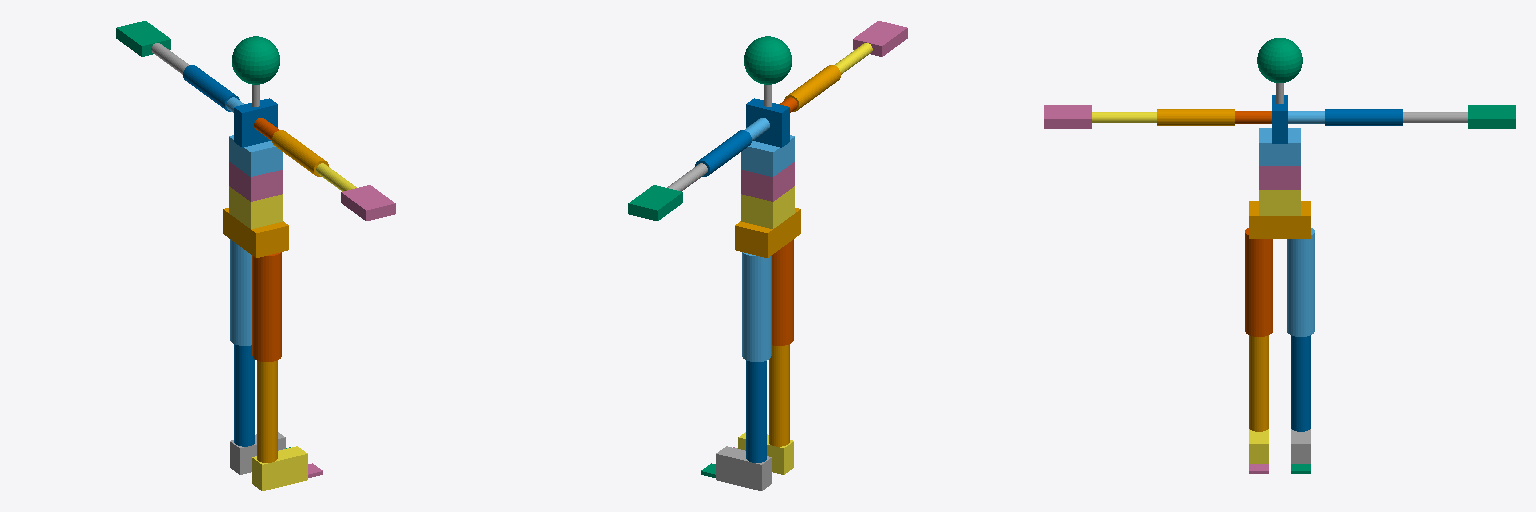
--- What the picture shows (computed from the rendered views, not written in the file) ---
3 views of the same robot in one strip: view 1: azimuth 30°, elevation 25°; view 2: azimuth 150°, elevation 25°; view 3: azimuth 270°, elevation 25° (orthographic).
Robot: XSensStyleModel_template — 67 links, 66 joints (66 revolute); root link Pelvis; default pose: all joints at 0.
Visible links, largest first — view 1: RightUpperLeg, LeftUpperLeg, RightLowerLeg, LeftLowerLeg, Head, Pelvis, RightFoot, T12, L5, T8, L3, RightHand (+4 smaller); view 2: LeftUpperLeg, RightUpperLeg, LeftLowerLeg, RightLowerLeg, Head, Pelvis, LeftFoot, T12, L5, T8, L3, LeftHand (+4 smaller); view 3: RightUpperLeg, LeftUpperLeg, RightLowerLeg, LeftLowerLeg, Pelvis, Head, T12, RightUpperArm, LeftUpperArm, RightHand, LeftHand, L5 (+6 smaller).
Link boxes in pixels (left/top/right/bottom): RightUpperLeg: left=252, top=252, right=281, bottom=361; LeftUpperLeg: left=230, top=239, right=251, bottom=345; RightLowerLeg: left=257, top=360, right=277, bottom=462; LeftLowerLeg: left=234, top=344, right=254, bottom=446; Head: left=232, top=36, right=279, bottom=84; Pelvis: left=223, top=208, right=288, bottom=257; RightFoot: left=252, top=446, right=307, bottom=490; T12: left=229, top=135, right=282, bottom=176; L5: left=229, top=186, right=282, bottom=228; T8: left=234, top=98, right=277, bottom=147; L3: left=229, top=162, right=282, bottom=201; RightHand: left=341, top=185, right=395, bottom=220; LeftUpperLeg: left=742, top=252, right=771, bottom=361; RightUpperLeg: left=772, top=239, right=793, bottom=345; LeftLowerLeg: left=746, top=360, right=766, bottom=462; RightLowerLeg: left=769, top=344, right=789, bottom=446; Head: left=744, top=36, right=791, bottom=84; Pelvis: left=735, top=208, right=800, bottom=257; LeftFoot: left=716, top=446, right=771, bottom=490; T12: left=741, top=135, right=794, bottom=176; L5: left=741, top=186, right=794, bottom=228; T8: left=746, top=98, right=789, bottom=147; L3: left=741, top=162, right=794, bottom=201; LeftHand: left=628, top=185, right=682, bottom=220; RightUpperLeg: left=1245, top=228, right=1272, bottom=336; LeftUpperLeg: left=1287, top=228, right=1314, bottom=336; RightLowerLeg: left=1249, top=335, right=1268, bottom=431; LeftLowerLeg: left=1291, top=335, right=1310, bottom=431; Pelvis: left=1249, top=201, right=1310, bottom=238; Head: left=1257, top=38, right=1302, bottom=82; T12: left=1259, top=128, right=1300, bottom=165; RightUpperArm: left=1157, top=109, right=1234, bottom=125; LeftUpperArm: left=1325, top=109, right=1402, bottom=125; RightHand: left=1044, top=105, right=1091, bottom=128; LeftHand: left=1468, top=105, right=1515, bottom=128; L5: left=1259, top=190, right=1300, bottom=215.
Bounding box of the posed robot: 0.2984 × 1.8 × 1.74 m (x, y, z).
Geometry: primitives only (box / cylinder / sphere), no mesh files.

The robot description file, URDF, robot "XSensStyleModel_template":
<robot name="XSensStyleModel_template">
<!--To open this model with Gazebo replace the null masses, inertias and dimensions of the 'fake links f1 and f2'-->
    <!--LINKS-->
	<!--Link base (1)-->
	<link name="Pelvis">
        <inertial>
            <mass value="4.9968"/>
			<!--COM origin wrt pHipOrigin-->
            <origin xyz="0           0     0.04926" rpy="0 0 0" />
            <inertia ixx="0.028027" iyy="0.011679" izz="0.031624" ixy="0" ixz="0" iyz="0"/>
        </inertial>

        <visual>
			<!--box origin wrt pHipOrigin-->
            <origin xyz="0           0     0.04926" rpy="0 0 0" />
            <geometry>
                <box size="0.13544     0.24001    0.098513"/>
            </geometry>
        </visual>

        <collision>
			<!--box origin wrt pHipOrigin-->
            <origin xyz="0           0     0.04926" rpy="0 0 0" />
            <geometry>
                <box size="0.13544     0.24001    0.098513"/>
            </geometry>
        </collision>

    </link>
    <!--Chain from (2) to (7)-->
	<link name="L5_f1">
        <inertial>
            <mass value="0.0001"/>
            <origin xyz="0 0 0" rpy="0 0 0" />
            <inertia ixx="0.0003" iyy="0.0003" izz="0.0003" ixy="0" ixz="0" iyz="0"/>
        </inertial>
    </link>
	<link name="L5_f2">
        <inertial>
            <mass value="0.0001"/>
            <origin xyz="0 0 0" rpy="0 0 0" />
            <inertia ixx="0.0003" iyy="0.0003" izz="0.0003" ixy="0" ixz="0" iyz="0"/>
        </inertial>
    </link>
	<link name="L5">
        <inertial>
            <mass value="6.3709"/>
			<!--COM origin wrt jL5S1-->
            <origin xyz="0           0    0.054267" rpy="0 0 0" />
            <inertia ixx="0.047039" iyy="0.03547" izz="0.069039" ixy="0" ixz="0" iyz="0"/>
        </inertial>

        <visual>
			<!--box origin origin wrt jL5S1-->
            <origin xyz="0           0    0.054267" rpy="0 0 0" />
            <geometry>
                <box size="0.13544     0.16002     0.10853"/>
            </geometry>
        </visual>

        <collision>
			<!--box origin origin wrt jL5S1-->
            <origin xyz="0           0    0.054267" rpy="0 0 0" />
            <geometry>
                <box size="0.13544     0.16002     0.10853"/>
            </geometry>
        </collision>
    </link>
	<link name="L3_f1">
        <inertial>
            <mass value="0.0001"/>
            <origin xyz="0 0 0" rpy="0 0 0" />
            <inertia ixx="0.0003" iyy="0.0003" izz="0.0003" ixy="0" ixz="0" iyz="0"/>
        </inertial>
    </link>
	<link name="L3_f2">
        <inertial>
            <mass value="0.0001"/>
            <origin xyz="0 0 0" rpy="0 0 0" />
            <inertia ixx="0.0003" iyy="0.0003" izz="0.0003" ixy="0" ixz="0" iyz="0"/>
        </inertial>
    </link>
	<link name="L3">
        <inertial>
            <mass value="6.3709"/>
			<!--COM origin wrt jL4L3-->
            <origin xyz="0           0    0.049032" rpy="0 0 0" />
            <inertia ixx="0.045891" iyy="0.034322" izz="0.069039" ixy="0" ixz="0" iyz="0"/>
        </inertial>

        <visual>
			<!--box origin origin wrt jL4L3-->
            <origin xyz="0           0    0.049032" rpy="0 0 0" />
            <geometry>
                <box size="0.13544     0.16002    0.098064"/>
            </geometry>
        </visual>

        <collision>
			<!--box origin origin wrt jL4L3-->
            <origin xyz="0           0    0.049032" rpy="0 0 0" />
            <geometry>
                <box size="0.13544     0.16002    0.098064"/>
            </geometry>
        </collision>
    </link>
	<link name="T12_f1">
        <inertial>
            <mass value="0.0001"/>
            <origin xyz="0 0 0" rpy="0 0 0" />
            <inertia ixx="0.0003" iyy="0.0003" izz="0.0003" ixy="0" ixz="0" iyz="0"/>
        </inertial>
    </link>
	<link name="T12_f2">
        <inertial>
            <mass value="0.0001"/>
            <origin xyz="0 0 0" rpy="0 0 0" />
            <inertia ixx="0.0003" iyy="0.0003" izz="0.0003" ixy="0" ixz="0" iyz="0"/>
        </inertial>
    </link>
	<link name="T12">
        <inertial>
            <mass value="6.3709"/>
			<!--COM origin wrt jL1T12-->
            <origin xyz="0           0    0.049032" rpy="0 0 0" />
            <inertia ixx="0.045891" iyy="0.034322" izz="0.069039" ixy="0" ixz="0" iyz="0"/>
        </inertial>

        <visual>
			<!--box origin origin wrt jL1T12-->
            <origin xyz="0           0    0.049032" rpy="0 0 0" />
            <geometry>
                <box size="0.13544     0.16002    0.098064"/>
            </geometry>
        </visual>

        <collision>
			<!--box origin origin wrt jL1T12-->
            <origin xyz="0           0    0.049032" rpy="0 0 0" />
            <geometry>
                <box size="0.13544     0.16002    0.098064"/>
            </geometry>
        </collision>
    </link>
	<link name="T8_f1">
        <inertial>
            <mass value="0.0001"/>
            <origin xyz="0 0 0" rpy="0 0 0" />
            <inertia ixx="0.0003" iyy="0.0003" izz="0.0003" ixy="0" ixz="0" iyz="0"/>
        </inertial>
    </link>
	<link name="T8_f2">
        <inertial>
            <mass value="0.0001"/>
            <origin xyz="0 0 0" rpy="0 0 0" />
            <inertia ixx="0.0003" iyy="0.0003" izz="0.0003" ixy="0" ixz="0" iyz="0"/>
        </inertial>
    </link>
	<link name="T8">
        <inertial>
            <mass value="2.4984"/>
			<!--COM origin wrt jT9T8-->
            <origin xyz="0           0    0.069025" rpy="0 0 0" />
            <inertia ixx="0.0047169" iyy="0.0086566" izz="0.0054379" ixy="0" ixz="0" iyz="0"/>
        </inertial>

        <visual>
			<!--box origin wrt jT9T8-->
            <origin xyz="0           0    0.069025" rpy="0 0 0" />
            <geometry>
                <box size="0.15007    0.059982     0.13805"/>
            </geometry>
        </visual>

        <collision>
			<!--box origin wrt jT9T8-->
            <origin xyz="0           0    0.069025" rpy="0 0 0" />
            <geometry>
                <box size="0.15007    0.059982     0.13805"/>
            </geometry>
        </collision>

    </link>
	<link name="Neck_f1">
        <inertial>
            <mass value="0.0001"/>
            <origin xyz="0 0 0" rpy="0 0 0" />
            <inertia ixx="0.0003" iyy="0.0003" izz="0.0003" ixy="0" ixz="0" iyz="0"/>
        </inertial>
    </link>
	<link name="Neck_f2">
        <inertial>
            <mass value="0.0001"/>
            <origin xyz="0 0 0" rpy="0 0 0" />
            <inertia ixx="0.0003" iyy="0.0003" izz="0.0003" ixy="0" ixz="0" iyz="0"/>
        </inertial>
    </link>
	<link name="Neck">
        <inertial>
            <mass value="0.74952"/>
			<!--COM origin wrt jT1C7-->
            <origin xyz="0           0     0.04564" rpy="0 0 0" />
            <inertia ixx="0.0006812" iyy="0.0006812" izz="0.00032155" ixy="0" ixz="0" iyz="0"/>
        </inertial>

        <visual>
			<!--box origin wrt jT1C7-->
            <origin xyz="0           0     0.04564" rpy="0 0 0" />
            <geometry>
		<cylinder length="0.09128" radius="0.014646"/>
            </geometry>
        </visual>

        <collision>
			<!--box origin wrt jT1C7-->
            <origin xyz="0           0     0.04564" rpy="0 0 0" />
            <geometry>
                <cylinder length="0.09128" radius="0.014646"/>
            </geometry>
        </collision>
    </link>
	<link name="Head_f1">
        <inertial>
            <mass value="0.0001"/>
            <origin xyz="0 0 0" rpy="0 0 0" />
            <inertia ixx="0.0003" iyy="0.0003" izz="0.0003" ixy="0" ixz="0" iyz="0"/>
        </inertial>
    </link>
	<link name="Head_f2">
        <inertial>
            <mass value="0.0001"/>
            <origin xyz="0 0 0" rpy="0 0 0" />
            <inertia ixx="0.0003" iyy="0.0003" izz="0.0003" ixy="0" ixz="0" iyz="0"/>
        </inertial>
    </link>
	<link name="Head">
        <inertial>
            <mass value="2.2486"/>
			<!--COM origin wrt jC1Head-->
            <origin xyz="0           0    0.087374" rpy="0 0 0" />
            <inertia ixx="0.0068665" iyy="0.0068665" izz="0.0068665" ixy="0" ixz="0" iyz="0"/>
        </inertial>

        <visual>
			<!--boc origin wrt jC1Head-->
            <origin xyz="0           0    0.087374" rpy="0 0 0" />
            <geometry>
                <sphere radius="0.087374"/>
            </geometry>
        </visual>

        <collision>
			<!--box origin wrt jC1Head-->
            <origin xyz="0           0    0.087374" rpy="0 0 0" />
            <geometry>
                <sphere radius="0.087374"/>
            </geometry>
        </collision>

    </link>
	<!--Chain from (8) to (11)-->
	<link name="RightShoulder_f1">
        <inertial>
            <mass value="0.0001"/>
            <origin xyz="0 0 0" rpy="0 0 0" />
            <inertia ixx="0.0003" iyy="0.0003" izz="0.0003" ixy="0" ixz="0" iyz="0"/>
        </inertial>
    </link>
	<link name="RightShoulder_f2">
        <inertial>
            <mass value="0.0001"/>
            <origin xyz="0 0 0" rpy="0 0 0" />
            <inertia ixx="0.0003" iyy="0.0003" izz="0.0003" ixy="0" ixz="0" iyz="0"/>
        </inertial>
    </link>
	<link name="RightShoulder">
        <inertial>
            <mass value="1.9363"/>
			<!--COM origin wrt jRightC7Shoulder-->
            <origin xyz="0   -0.069999           0" rpy="0 0 0" />
            <inertia ixx="0.0034652" iyy="0.00060537" izz="0.0034652" ixy="0" ixz="0" iyz="0"/>
        </inertial>

        <visual>
			<!--box origin wrt jRightC7Shoulder. RPY rotated of pi/2.-->
            <origin xyz="0   -0.069999           0" rpy="1.5708 0 0" />
            <geometry>
                <cylinder length="0.14" radius="0.025006"/>
            </geometry>
        </visual>

        <collision>
			<!--box origin wrt jRightC7Shoulder. RPY rotated of pi/2.-->
            <origin xyz="0   -0.069999           0" rpy="1.5708 0 0" />
            <geometry>
                <cylinder length="0.14" radius="0.025006"/>
            </geometry>
        </collision>

    </link>
	<link name="RightUpperArm_f1">
        <inertial>
            <mass value="0.0001"/>
            <origin xyz="0 0 0" rpy="0 0 0" />
            <inertia ixx="0.0003" iyy="0.0003" izz="0.0003" ixy="0" ixz="0" iyz="0"/>
        </inertial>
    </link>
	<link name="RightUpperArm_f2">
        <inertial>
            <mass value="0.0001"/>
            <origin xyz="0 0 0" rpy="0 0 0" />
            <inertia ixx="0.0003" iyy="0.0003" izz="0.0003" ixy="0" ixz="0" iyz="0"/>
        </inertial>
    </link>
    <link name="RightUpperArm">
        <inertial>
            <mass value="1.8738"/>
			<!--COM origin wrt jRightShoulder-->
            <origin xyz="0    -0.14999           0" rpy="0 0 0" />
            <inertia ixx="0.014546" iyy="0.014546" izz="0.00098966" ixy="0" ixz="0" iyz="0"/>
        </inertial>

        <visual>
			<!--box origin wrt jRightShoulder. RPY rotated of pi/2.-->
            <origin xyz="0    -0.14999           0" rpy="1.5708 0 0" />
            <geometry>
                <cylinder length="0.29998" radius="0.032501"/>
            </geometry>
        </visual>

        <collision>
			<!--box origin wrt jRightShoulder. RPY rotated of pi/2.-->
            <origin xyz="0    -0.14999           0" rpy="1.5708 0 0" />
            <geometry>
                <cylinder length="0.29998" radius="0.032501"/>
            </geometry>
        </collision>

    </link>
	<link name="RightForeArm_f1">
        <inertial>
            <mass value="0.0001"/>
            <origin xyz="0 0 0" rpy="0 0 0" />
            <inertia ixx="0.0003" iyy="0.0003" izz="0.0003" ixy="0" ixz="0" iyz="0"/>
        </inertial>
    </link>
	<link name="RightForeArm_f2">
        <inertial>
            <mass value="0.0001"/>
            <origin xyz="0 0 0" rpy="0 0 0" />
            <inertia ixx="0.0003" iyy="0.0003" izz="0.0003" ixy="0" ixz="0" iyz="0"/>
        </inertial>
    </link>
	<link name="RightForeArm">
        <inertial>
            <mass value="1.2492"/>
			<!--COM origin wrt jRightElbow-->
            <origin xyz="0    -0.12261           0" rpy="0 0 0" />
            <inertia ixx="0.0064063" iyy="0.0064063" izz="0.00029323" ixy="0" ixz="0" iyz="0"/>
        </inertial>

        <visual>
			<!--box origin wrt jRightElbow. RPY rotated of pi/2.-->
            <origin xyz="0    -0.12261           0" rpy="1.5708 0 0" />
            <geometry>
                <cylinder length="0.24522" radius="0.021667"/>
            </geometry>
        </visual>

        <collision>
			<!--box origin wrt jRightElbow. RPY rotated of pi/2.-->
            <origin xyz="0    -0.12261           0" rpy="1.5708 0 0" />
            <geometry>
                <cylinder length="0.24522" radius="0.021667"/>
            </geometry>
        </collision>

    </link>
	<link name="RightHand_f1">
        <inertial>
            <mass value="0.0001"/>
            <origin xyz="0 0 0" rpy="0 0 0" />
            <inertia ixx="0.0003" iyy="0.0003" izz="0.0003" ixy="0" ixz="0" iyz="0"/>
        </inertial>
    </link>
	<link name="RightHand_f2">
        <inertial>
            <mass value="0.0001"/>
            <origin xyz="0 0 0" rpy="0 0 0" />
            <inertia ixx="0.0003" iyy="0.0003" izz="0.0003" ixy="0" ixz="0" iyz="0"/>
        </inertial>
    </link>
	<link name="RightHand">
        <inertial>
            <mass value="0.37476"/>
			<!--COM origin wrt jRightWrist-->
            <origin xyz="0   -0.091519           0" rpy="0 0 0" />
            <inertia ixx="0.0011049" iyy="0.00052366" izz="0.0015113" ixy="0" ixz="0" iyz="0"/>
        </inertial>

        <visual>
			<!--box origin wrt jRightWrist-->
            <origin xyz="0   -0.091519           0" rpy="0 0 0" />
            <geometry>
                <box size="0.12202     0.18304    0.043335"/>
            </geometry>
        </visual>

        <collision>
			<!--box origin wrt jRightWrist-->
            <origin xyz="0   -0.091519           0" rpy="0 0 0" />
            <geometry>
                <box size="0.12202     0.18304    0.043335"/>
            </geometry>
        </collision>

    </link>
	<!--Chain from (12) to (15)-->
	<link name="LeftShoulder_f1">
        <inertial>
            <mass value="0.0001"/>
            <origin xyz="0 0 0" rpy="0 0 0" />
            <inertia ixx="0.0003" iyy="0.0003" izz="0.0003" ixy="0" ixz="0" iyz="0"/>
        </inertial>
    </link>
	<link name="LeftShoulder_f2">
        <inertial>
            <mass value="0.0001"/>
            <origin xyz="0 0 0" rpy="0 0 0" />
            <inertia ixx="0.0003" iyy="0.0003" izz="0.0003" ixy="0" ixz="0" iyz="0"/>
        </inertial>
    </link>
	<link name="LeftShoulder">
        <inertial>
            <mass value="1.9363"/>
			<!--COM origin wrt jLeftC7Shoulder-->
            <origin xyz="0    0.069999           0" rpy="0 0 0" />
            <inertia ixx="0.0034652" iyy="0.00060537" izz="0.0034652" ixy="0" ixz="0" iyz="0"/>
        </inertial>

        <visual>
			<!--box origin wrt jLeftC7Shoulder. RPY rotated of pi/2.-->
            <origin xyz="0    0.069999           0" rpy="1.5708 0 0" />
            <geometry>
                <cylinder length="0.14" radius="0.025006"/>
            </geometry>
        </visual>

        <collision>
			<!--box origin wrt jLeftC7Shoulder. RPY rotated of pi/2.-->
            <origin xyz="0    0.069999           0" rpy="1.5708 0 0" />
            <geometry>
                <cylinder length="0.14" radius="0.025006"/>
            </geometry>
        </collision>

    </link>
	<link name="LeftUpperArm_f1">
        <inertial>
            <mass value="0.0001"/>
            <origin xyz="0 0 0" rpy="0 0 0" />
            <inertia ixx="0.0003" iyy="0.0003" izz="0.0003" ixy="0" ixz="0" iyz="0"/>
        </inertial>
    </link>
	<link name="LeftUpperArm_f2">
        <inertial>
            <mass value="0.0001"/>
            <origin xyz="0 0 0" rpy="0 0 0" />
            <inertia ixx="0.0003" iyy="0.0003" izz="0.0003" ixy="0" ixz="0" iyz="0"/>
        </inertial>
    </link>
	<link name="LeftUpperArm">
        <inertial>
            <mass value="1.8738"/>
			<!--COM origin wrt jLeftShoulder-->
            <origin xyz="0     0.14999           0" rpy="0 0 0" />
            <inertia ixx="0.014546" iyy="0.014546" izz="0.00098966" ixy="0" ixz="0" iyz="0"/>
        </inertial>

        <visual>
			<!--box origin wrt jLeftShoulder. RPY rotated of pi/2.-->
            <origin xyz="0     0.14999           0" rpy="1.5708 0 0" />
            <geometry>
                <cylinder length="0.29998" radius="0.032501"/>
            </geometry>
        </visual>

        <collision>
			<!--box origin wrt jLeftShoulder. RPY rotated of pi/2.-->
            <origin xyz="0     0.14999           0" rpy="1.5708 0 0" />
            <geometry>
                <cylinder length="0.29998" radius="0.032501"/>
            </geometry>
        </collision>

    </link>
	<link name="LeftForeArm_f1">
        <inertial>
            <mass value="0.0001"/>
            <origin xyz="0 0 0" rpy="0 0 0" />
            <inertia ixx="0.0003" iyy="0.0003" izz="0.0003" ixy="0" ixz="0" iyz="0"/>
        </inertial>
    </link>
	<link name="LeftForeArm_f2">
        <inertial>
            <mass value="0.0001"/>
            <origin xyz="0 0 0" rpy="0 0 0" />
            <inertia ixx="0.0003" iyy="0.0003" izz="0.0003" ixy="0" ixz="0" iyz="0"/>
        </inertial>
    </link>
	<link name="LeftForeArm">
        <inertial>
            <mass value="1.2492"/>
			<!--COM origin wrt jLeftElbow-->
            <origin xyz="0     0.12261           0" rpy="0 0 0" />
            <inertia ixx="0.0064063" iyy="0.0064063" izz="0.00029323" ixy="0" ixz="0" iyz="0"/>
        </inertial>

        <visual>
			<!--box origin wrt jLeftElbow. RPY rotated of pi/2.-->
            <origin xyz="0     0.12261           0" rpy="1.5708 0 0" />
            <geometry>
                <cylinder length="0.24522" radius="0.021667"/>
            </geometry>
        </visual>

        <collision>
			<!--box origin wrt jLeftElbow. RPY rotated of pi/2.-->
            <origin xyz="0     0.12261           0" rpy="1.5708 0 0" />
            <geometry>
                <cylinder length="0.24522" radius="0.021667"/>
            </geometry>
        </collision>

    </link>
	<link name="LeftHand_f1">
        <inertial>
            <mass value="0.0001"/>
            <origin xyz="0 0 0" rpy="0 0 0" />
            <inertia ixx="0.0003" iyy="0.0003" izz="0.0003" ixy="0" ixz="0" iyz="0"/>
        </inertial>
    </link>
	<link name="LeftHand_f2">
        <inertial>
            <mass value="0.0001"/>
            <origin xyz="0 0 0" rpy="0 0 0" />
            <inertia ixx="0.0003" iyy="0.0003" izz="0.0003" ixy="0" ixz="0" iyz="0"/>
        </inertial>
    </link>
	<link name="LeftHand">
        <inertial>
            <mass value="0.37476"/>
			<!--COM origin wrt jLeftWrist-->
            <origin xyz="0    0.091519           0" rpy="0 0 0" />
            <inertia ixx="0.0011049" iyy="0.00052366" izz="0.0015113" ixy="0" ixz="0" iyz="0"/>
        </inertial>

        <visual>
			<!--COM origin wrt jLeftWrist-->
            <origin xyz="0    0.091519           0" rpy="0 0 0" />
            <geometry>
                <box size="0.12202     0.18304    0.043335"/>
            </geometry>
        </visual>

        <collision>
			<!--COM origin wrt jLeftWrist-->
            <origin xyz="0    0.091519           0" rpy="0 0 0" />
            <geometry>
                <box size="0.12202     0.18304    0.043335"/>
            </geometry>
        </collision>

    </link>
	<!--Chain from (16) to (19)-->
	<link name="RightUpperLeg_f1">
        <inertial>
            <mass value="0.0001"/>
            <origin xyz="0 0 0" rpy="0 0 0" />
            <inertia ixx="0.0003" iyy="0.0003" izz="0.0003" ixy="0" ixz="0" iyz="0"/>
        </inertial>
    </link>
	<link name="RightUpperLeg_f2">
        <inertial>
            <mass value="0.0001"/>
            <origin xyz="0 0 0" rpy="0 0 0" />
            <inertia ixx="0.0003" iyy="0.0003" izz="0.0003" ixy="0" ixz="0" iyz="0"/>
        </inertial>
    </link>
    <link name="RightUpperLeg">
        <inertial>
            <mass value="7.8075"/>
			<!--COM origin wrt jRightHip-->
            <origin xyz="0           0     -0.2098" rpy="0 0 0" />
            <inertia ixx="0.12001" iyy="0.12001" izz="0.010917" ixy="0" ixz="0" iyz="0"/>
        </inertial>

        <visual>
			<!--box origin wrt jRightHip-->
            <origin xyz="0           0     -0.2098" rpy="0 0 0" />
            <geometry>
                <cylinder length="0.41961" radius="0.052882"/>
            </geometry>
        </visual>

        <collision>
			<!--box origin wrt jRightHip-->
            <origin xyz="0           0     -0.2098" rpy="0 0 0" />
            <geometry>
                <cylinder length="0.41961" radius="0.052882"/>
            </geometry>
        </collision>

    </link>
	<link name="RightLowerLeg_f1">
        <inertial>
            <mass value="0.0001"/>
            <origin xyz="0 0 0" rpy="0 0 0" />
            <inertia ixx="0.0003" iyy="0.0003" izz="0.0003" ixy="0" ixz="0" iyz="0"/>
        </inertial>
    </link>
	<link name="RightLowerLeg_f2">
        <inertial>
            <mass value="0.0001"/>
            <origin xyz="0 0 0" rpy="0 0 0" />
            <inertia ixx="0.0003" iyy="0.0003" izz="0.0003" ixy="0" ixz="0" iyz="0"/>
        </inertial>
    </link>
    <link name="RightLowerLeg">
        <inertial>
            <mass value="2.2798"/>
			<!--COM origin wrt jRightKnee-->
            <origin xyz="0           0    -0.20315" rpy="0 0 0" />
            <inertia ixx="0.032164" iyy="0.032164" izz="0.0016028" ixy="0" ixz="0" iyz="0"/>
        </inertial>

        <visual>
			<!--box origin wrt jRightKnee-->
            <origin xyz="0           0    -0.20315" rpy="0 0 0" />
            <geometry>
                <cylinder length="0.4063" radius="0.037498"/>
            </geometry>
        </visual>

        <collision>
			<!--box origin wrt jRightKnee-->
            <origin xyz="0           0    -0.20315" rpy="0 0 0" />
            <geometry>
                <cylinder length="0.4063" radius="0.037498"/>
            </geometry>
        </collision>

    </link>
	<link name="RightFoot_f1">
        <inertial>
            <mass value="0.0001"/>
            <origin xyz="0 0 0" rpy="0 0 0" />
            <inertia ixx="0.0003" iyy="0.0003" izz="0.0003" ixy="0" ixz="0" iyz="0"/>
        </inertial>
    </link>
	<link name="RightFoot_f2">
        <inertial>
            <mass value="0.0001"/>
            <origin xyz="0 0 0" rpy="0 0 0" />
            <inertia ixx="0.0003" iyy="0.0003" izz="0.0003" ixy="0" ixz="0" iyz="0"/>
        </inertial>
    </link>
    <link name="RightFoot">
        <inertial>
            <mass value="0.81198"/>
			<!--COM origin wrt jRightAnkle-->
            <origin xyz="0.052717           0   -0.052892" rpy="0 0 0" />
            <inertia ixx="0.0011377" iyy="0.0031853" izz="0.0028087" ixy="0" ixz="0" iyz="0"/>
        </inertial>

        <visual>
			<!--box origin wrt jRightAnkle-->
	    	<origin xyz="0.052717           0   -0.052892" rpy="0 0 0" />
            <geometry>
                <box size="0.18943    0.074996     0.10578"/>
            </geometry>
        </visual>

        <collision>
			<!--box origin wrt jRightAnkle-->
		    <origin xyz="0.052717           0   -0.052892" rpy="0 0 0" />
	            <geometry>
	                <box size="0.18943    0.074996     0.10578"/>
	            </geometry>
        </collision>

    </link>
	<link name="RightToe_f1">
        <inertial>
            <mass value="0.0001"/>
            <origin xyz="0 0 0" rpy="0 0 0" />
            <inertia ixx="0.0003" iyy="0.0003" izz="0.0003" ixy="0" ixz="0" iyz="0"/>
        </inertial>
    </link>
	<link name="RightToe_f2">
        <inertial>
            <mass value="0.0001"/>
            <origin xyz="0 0 0" rpy="0 0 0" />
            <inertia ixx="0.0003" iyy="0.0003" izz="0.0003" ixy="0" ixz="0" iyz="0"/>
        </inertial>
    </link>
    <link name="RightToe">
        <inertial>
            <mass value="0.09369"/>
			<!--COM origin wrt jRightBallFoot-->
            <origin xyz="0.031785           0           0" rpy="0 0 0" />
            <inertia ixx="4.5665e-05" iyy="3.3302e-05" izz="7.5463e-05" ixy="0" ixz="0" iyz="0"/>
        </inertial>

        <visual>
			<!--box origin wrt jRightBallFoot-->
            <origin xyz="0.031785           0           0" rpy="0 0 0" />
            <geometry>
                <box size="0.063569    0.074996     0.01498"/>
            </geometry>
        </visual>

        <collision>
			<!--box origin wrt jRightBallFoot-->
            <origin xyz="0.031785           0           0" rpy="0 0 0" />
            <geometry>
                <box size="0.063569    0.074996     0.01498"/>
            </geometry>
        </collision>
    </link>
	<!--Chain from (20) to (23)-->
	<link name="LeftUpperLeg_f1">
        <inertial>
            <mass value="0.0001"/>
            <origin xyz="0 0 0" rpy="0 0 0" />
            <inertia ixx="0.0003" iyy="0.0003" izz="0.0003" ixy="0" ixz="0" iyz="0"/>
        </inertial>
    </link>
	<link name="LeftUpperLeg_f2">
        <inertial>
            <mass value="0.0001"/>
            <origin xyz="0 0 0" rpy="0 0 0" />
            <inertia ixx="0.0003" iyy="0.0003" izz="0.0003" ixy="0" ixz="0" iyz="0"/>
        </inertial>
    </link>
    <link name="LeftUpperLeg">
        <inertial>
            <mass value="7.8075"/>
			<!--COM origin wrt jLeftHip-->
            <origin xyz="0           0     -0.2098" rpy="0 0 0" />
            <inertia ixx="0.12001" iyy="0.12001" izz="0.010917" ixy="0" ixz="0" iyz="0"/>
        </inertial>

        <visual>
			<!--box origin wrt jLeftHip-->
            <origin xyz="0           0     -0.2098" rpy="0 0 0" />
            <geometry>
                <cylinder length="0.41961" radius="-0.052882"/>
            </geometry>
        </visual>

        <collision>
			<!--box origin wrt jLeftHip-->
            <origin xyz="0           0     -0.2098" rpy="0 0 0" />
            <geometry>
                <cylinder length="0.41961" radius="-0.052882"/>
            </geometry>
        </collision>

    </link>
	<link name="LeftLowerLeg_f1">
        <inertial>
            <mass value="0.0001"/>
            <origin xyz="0 0 0" rpy="0 0 0" />
            <inertia ixx="0.0003" iyy="0.0003" izz="0.0003" ixy="0" ixz="0" iyz="0"/>
        </inertial>
    </link>
	<link name="LeftLowerLeg_f2">
        <inertial>
            <mass value="0.0001"/>
            <origin xyz="0 0 0" rpy="0 0 0" />
            <inertia ixx="0.0003" iyy="0.0003" izz="0.0003" ixy="0" ixz="0" iyz="0"/>
        </inertial>
    </link>
	<link name="LeftLowerLeg">
        <inertial>
            <mass value="2.2798"/>
			<!--COM origin wrt jLeftKnee-->
            <origin xyz="0           0    -0.20315" rpy="0 0 0" />
            <inertia ixx="0.032164" iyy="0.032164" izz="0.0016028" ixy="0" ixz="0" iyz="0"/>
        </inertial>

        <visual>
			<!--box origin wrt jLeftKnee-->
            <origin xyz="0           0    -0.20315" rpy="0 0 0" />
            <geometry>
		<cylinder length="0.4063" radius="0.037498"/>
            </geometry>
        </visual>

        <collision>
			<!--box origin wrt jLeftKnee-->
            <origin xyz="0           0    -0.20315" rpy="0 0 0" />
            <geometry>
		<cylinder length="0.4063" radius="0.037498"/>
            </geometry>
        </collision>

    </link>
	<link name="LeftFoot_f1">
        <inertial>
            <mass value="0.0001"/>
            <origin xyz="0 0 0" rpy="0 0 0" />
            <inertia ixx="0.0003" iyy="0.0003" izz="0.0003" ixy="0" ixz="0" iyz="0"/>
        </inertial>
    </link>
	<link name="LeftFoot_f2">
        <inertial>
            <mass value="0.0001"/>
            <origin xyz="0 0 0" rpy="0 0 0" />
            <inertia ixx="0.0003" iyy="0.0003" izz="0.0003" ixy="0" ixz="0" iyz="0"/>
        </inertial>
    </link>
    <link name="LeftFoot">
        <inertial>
            <mass value="0.81198"/>
			<!--COM origin wrt jLeftAnkle-->
            <origin xyz="0.052717           0   -0.052892" rpy="0 0 0" />
            <inertia ixx="0.0011377" iyy="0.0031853" izz="0.0028087" ixy="0" ixz="0" iyz="0"/>
        </inertial>

        <visual>
			<!--box origin wrt jLeftAnkle-->
	   	 	<origin xyz="0.052717           0   -0.052892" rpy="0 0 0" />
            <geometry>
                <box size="0.18943    0.074996     0.10578"/>
            </geometry>
        </visual>

        <collision>
			<!--box origin wrt jLeftAnkle-->
		    <origin xyz="0.052717           0   -0.052892" rpy="0 0 0" />
	            <geometry>
	                <box size="0.18943    0.074996     0.10578"/>
	            </geometry>
        </collision>

    </link>
	<link name="LeftToe_f1">
        <inertial>
            <mass value="0.0001"/>
            <origin xyz="0 0 0" rpy="0 0 0" />
            <inertia ixx="0.0003" iyy="0.0003" izz="0.0003" ixy="0" ixz="0" iyz="0"/>
        </inertial>
    </link>
	<link name="LeftToe_f2">
        <inertial>
            <mass value="0.0001"/>
            <origin xyz="0 0 0" rpy="0 0 0" />
            <inertia ixx="0.0003" iyy="0.0003" izz="0.0003" ixy="0" ixz="0" iyz="0"/>
        </inertial>
    </link>
	<link name="LeftToe">
        <inertial>
            <mass value="0.09369"/>
			<!--COM origin wrt jLeftBallFoot-->
            <origin xyz="0.031785           0           0" rpy="0 0 0" />
            <inertia ixx="4.5665e-05" iyy="3.3302e-05" izz="7.5463e-05" ixy="0" ixz="0" iyz="0"/>
        </inertial>

        <visual>
			<!--box origin wrt jLeftBallFoot-->
            <origin xyz="0.031785           0           0" rpy="0 0 0" />
            <geometry>
                <box size="0.063569    0.074996     0.01498"/>
            </geometry>
        </visual>

        <collision>
			<!--box origin wrt jLeftBallFoot-->
            <origin xyz="0.031785           0           0" rpy="0 0 0" />
            <geometry>
                <box size="0.063569    0.074996     0.01498"/>
            </geometry>
        </collision>
    </link>


	<!--JOINTS-->
	<!--Chain from (2) to (7)-->
	<joint name="jL5S1_rotx" type="revolute">
        <origin xyz="-1e-06           0    0.098516" rpy="0 0 0"/>
        <parent link="Pelvis"/>
        <child link="L5_f1"/>
        <dynamics damping="0.1" friction="0.0"/>
        <limit effort="30" velocity="1.0" lower="-10.0" upper="10.0" />
        <axis xyz="1 0 0" />
    </joint>
	<joint name="jL5S1_roty" type="revolute">
        <origin xyz="0 0 0" rpy="0 0 0"/>
        <parent link="L5_f1"/>
        <child link="L5_f2"/>
        <dynamics damping="0.1" friction="0.0"/>
        <limit effort="30" velocity="1.0" lower="-10.0" upper="10.0" />
        <axis xyz="0 1 0" />
    </joint>
    <joint name="jL5S1_rotz" type="revolute">
        <origin xyz="0 0 0" rpy="0 0 0"/>
        <parent link="L5_f2"/>
        <child link="L5"/>
        <dynamics damping="0.1" friction="0.0"/>
        <limit effort="30" velocity="1.0" lower="-10.0" upper="10.0" />
        <axis xyz="0 0 1" />
    </joint>
	<joint name="jL4L3_rotx" type="revolute">
        <origin xyz="1e-06           0     0.10853" rpy="0 0 0"/>
        <parent link="L5"/>
        <child link="L3_f1"/>
        <dynamics damping="0.1" friction="0.0"/>
        <limit effort="30" velocity="1.0" lower="-10.0" upper="10.0" />
        <axis xyz="1 0 0" />
    </joint>
	<joint name="jL4L3_roty" type="revolute">
        <origin xyz="0 0 0" rpy="0 0 0"/>
        <parent link="L3_f1"/>
        <child link="L3_f2"/>
        <dynamics damping="0.1" friction="0.0"/>
        <limit effort="30" velocity="1.0" lower="-10.0" upper="10.0" />
        <axis xyz="0 1 0" />
    </joint>
    <joint name="jL4L3_rotz" type="revolute">
        <origin xyz="0 0 0" rpy="0 0 0"/>
        <parent link="L3_f2"/>
        <child link="L3"/>
        <dynamics damping="0.1" friction="0.0"/>
        <limit effort="30" velocity="1.0" lower="-10.0" upper="10.0" />
        <axis xyz="0 0 1" />
    </joint>
	<joint name="jL1T12_rotx" type="revolute">
        <origin xyz="0           0    0.098064" rpy="0 0 0"/>
        <parent link="L3"/>
        <child link="T12_f1"/>
        <dynamics damping="0.1" friction="0.0"/>
        <limit effort="30" velocity="1.0" lower="-10.0" upper="10.0" />
        <axis xyz="1 0 0" />
    </joint>
	<joint name="jL1T12_roty" type="revolute">
        <origin xyz="0 0 0" rpy="0 0 0"/>
        <parent link="T12_f1"/>
        <child link="T12_f2"/>
        <dynamics damping="0.1" friction="0.0"/>
        <limit effort="30" velocity="1.0" lower="-10.0" upper="10.0" />
        <axis xyz="0 1 0" />
    </joint>
    <joint name="jL1T12_rotz" type="revolute">
        <origin xyz="0 0 0" rpy="0 0 0"/>
        <parent link="T12_f2"/>
        <child link="T12"/>
        <dynamics damping="0.1" friction="0.0"/>
        <limit effort="30" velocity="1.0" lower="-10.0" upper="10.0" />
        <axis xyz="0 0 1" />
    </joint>
	<joint name="jT9T8_rotx" type="revolute">
        <origin xyz="0           0    0.098064" rpy="0 0 0"/>
        <parent link="T12"/>
        <child link="T8_f1"/>
        <dynamics damping="0.1" friction="0.0"/>
        <limit effort="30" velocity="1.0" lower="-10.0" upper="10.0" />
        <axis xyz="1 0 0" />
    </joint>
	<joint name="jT9T8_roty" type="revolute">
        <origin xyz="0 0 0" rpy="0 0 0"/>
        <parent link="T8_f1"/>
        <child link="T8_f2"/>
        <dynamics damping="0.1" friction="0.0"/>
        <limit effort="30" velocity="1.0" lower="-10.0" upper="10.0" />
        <axis xyz="0 1 0" />
    </joint>
    <joint name="jT9T8_rotz" type="revolute">
        <origin xyz="0 0 0" rpy="0 0 0"/>
        <parent link="T8_f2"/>
        <child link="T8"/>
        <dynamics damping="0.1" friction="0.0"/>
        <limit effort="30" velocity="1.0" lower="-10.0" upper="10.0" />
        <axis xyz="0 0 1" />
    </joint>
	<joint name="jT1C7_rotx" type="revolute">
        <origin xyz="0           0     0.13805" rpy="0 0 0"/>
        <parent link="T8"/>
        <child link="Neck_f1"/>
        <dynamics damping="0.1" friction="0.0"/>
        <limit effort="30" velocity="1.0" lower="-10.0" upper="10.0" />
        <axis xyz="1 0 0" />
    </joint>
	<joint name="jT1C7_roty" type="revolute">
        <origin xyz="0 0 0" rpy="0 0 0"/>
        <parent link="Neck_f1"/>
        <child link="Neck_f2"/>
        <dynamics damping="0.1" friction="0.0"/>
        <limit effort="30" velocity="1.0" lower="-10.0" upper="10.0" />
        <axis xyz="0 1 0" />
    </joint>
    <joint name="jT1C7_rotz" type="revolute">
        <origin xyz="0 0 0" rpy="0 0 0"/>
        <parent link="Neck_f2"/>
        <child link="Neck"/>
        <dynamics damping="0.1" friction="0.0"/>
        <limit effort="30" velocity="1.0" lower="-10.0" upper="10.0" />
        <axis xyz="0 0 1" />
    </joint>
	<joint name="jC1Head_rotx" type="revolute">
        <origin xyz="3e-06           0     0.09128" rpy="0 0 0"/>
        <parent link="Neck"/>
        <child link="Head_f1"/>
        <dynamics damping="0.1" friction="0.0"/>
        <limit effort="30" velocity="1.0" lower="-10.0" upper="10.0" />
        <axis xyz="1 0 0" />
    </joint>
	<joint name="jC1Head_roty" type="revolute">
        <origin xyz="0 0 0" rpy="0 0 0"/>
        <parent link="Head_f1"/>
        <child link="Head_f2"/>
        <dynamics damping="0.1" friction="0.0"/>
        <limit effort="30" velocity="1.0" lower="-10.0" upper="10.0" />
        <axis xyz="0 1 0" />
    </joint>
    <joint name="jC1Head_rotz" type="revolute">
        <origin xyz="0 0 0" rpy="0 0 0"/>
        <parent link="Head_f2"/>
        <child link="Head"/>
        <dynamics damping="0.1" friction="0.0"/>
        <limit effort="30" velocity="1.0" lower="-10.0" upper="10.0" />
        <axis xyz="0 0 1" />
    </joint>
	<!--Chain from (8) to (11)-->
	<joint name="jRightC7Shoulder_rotx" type="revolute">
        <origin xyz="0   -0.029991    0.077029" rpy="0 0 0"/>
        <parent link="T8"/>
        <child link="RightShoulder_f1"/>
        <dynamics damping="0.1" friction="0.0"/>
        <limit effort="30" velocity="1.0" lower="-10.0" upper="10.0" />
        <axis xyz="1 0 0" />
    </joint>
	<joint name="jRightC7Shoulder_roty" type="revolute">
        <origin xyz="0 0 0" rpy="0 0 0"/>
        <parent link="RightShoulder_f1"/>
        <child link="RightShoulder_f2"/>
        <dynamics damping="0.1" friction="0.0"/>
        <limit effort="30" velocity="1.0" lower="-10.0" upper="10.0" />
        <axis xyz="0 1 0" />
    </joint>
    <joint name="jRightC7Shoulder_rotz" type="revolute">
        <origin xyz="0 0 0" rpy="0 0 0"/>
        <parent link="RightShoulder_f2"/>
        <child link="RightShoulder"/>
        <dynamics damping="0.1" friction="0.0"/>
        <limit effort="30" velocity="1.0" lower="-10.0" upper="10.0" />
        <axis xyz="0 0 1" />
    </joint>
	<joint name="jRightShoulder_rotx" type="revolute">
        <origin xyz="0       -0.14           0" rpy="0 0 0"/>
        <parent link="RightShoulder"/>
        <child link="RightUpperArm_f1"/>
        <dynamics damping="0.1" friction="0.0"/>
        <limit effort="30" velocity="1.0" lower="-10.0" upper="10.0" />
        <axis xyz="1 0 0" />
    </joint>
	<joint name="jRightShoulder_roty" type="revolute">
        <origin xyz="0 0 0" rpy="0 0 0"/>
        <parent link="RightUpperArm_f1"/>
        <child link="RightUpperArm_f2"/>
        <dynamics damping="0.1" friction="0.0"/>
        <limit effort="30" velocity="1.0" lower="-10.0" upper="10.0" />
        <axis xyz="0 1 0" />
    </joint>
    <joint name="jRightShoulder_rotz" type="revolute">
        <origin xyz="0 0 0" rpy="0 0 0"/>
        <parent link="RightUpperArm_f2"/>
        <child link="RightUpperArm"/>
        <dynamics damping="0.1" friction="0.0"/>
        <limit effort="30" velocity="1.0" lower="-10.0" upper="10.0" />
        <axis xyz="0 0 1" />
    </joint>
	<joint name="jRightElbow_rotx" type="revolute">
        <origin xyz="0    -0.29998           0" rpy="0 0 0"/>
        <parent link="RightUpperArm"/>
        <child link="RightForeArm_f1"/>
        <dynamics damping="0.1" friction="0.0"/>
        <limit effort="30" velocity="1.0" lower="-10.0" upper="10.0" />
        <axis xyz="1 0 0" />
    </joint>
	<joint name="jRightElbow_roty" type="revolute">
        <origin xyz="0 0 0" rpy="0 0 0"/>
        <parent link="RightForeArm_f1"/>
        <child link="RightForeArm_f2"/>
        <dynamics damping="0.1" friction="0.0"/>
        <limit effort="30" velocity="1.0" lower="-10.0" upper="10.0" />
        <axis xyz="0 1 0" />
    </joint>
    <joint name="jRightElbow_rotz" type="revolute">
        <origin xyz="0 0 0" rpy="0 0 0"/>
        <parent link="RightForeArm_f2"/>
        <child link="RightForeArm"/>
        <dynamics damping="0.1" friction="0.0"/>
        <limit effort="30" velocity="1.0" lower="-10.0" upper="10.0" />
        <axis xyz="0 0 1" />
    </joint>
	<joint name="jRightWrist_rotx" type="revolute">
        <origin xyz="1e-06    -0.24522           0" rpy="0 0 0"/>
        <parent link="RightForeArm"/>
        <child link="RightHand_f1"/>
        <dynamics damping="0.1" friction="0.0"/>
        <limit effort="30" velocity="1.0" lower="-10.0" upper="10.0" />
        <axis xyz="1 0 0" />
    </joint>
	<joint name="jRightWrist_roty" type="revolute">
        <origin xyz="0 0 0" rpy="0 0 0"/>
        <parent link="RightHand_f1"/>
        <child link="RightHand_f2"/>
        <dynamics damping="0.1" friction="0.0"/>
        <limit effort="30" velocity="1.0" lower="-10.0" upper="10.0" />
        <axis xyz="0 1 0" />
    </joint>
    <joint name="jRightWrist_rotz" type="revolute">
        <origin xyz="0 0 0" rpy="0 0 0"/>
        <parent link="RightHand_f2"/>
        <child link="RightHand"/>
        <dynamics damping="0.1" friction="0.0"/>
        <limit effort="30" velocity="1.0" lower="-10.0" upper="10.0" />
        <axis xyz="0 0 1" />
    </joint>
	<!--Chain from (12) to (15)-->
	<joint name="jLeftC7Shoulder_rotx" type="revolute">
        <origin xyz="0    0.029991    0.077029" rpy="0 0 0"/>
        <parent link="T8"/>
        <child link="LeftShoulder_f1"/>
        <dynamics damping="0.1" friction="0.0"/>
        <limit effort="30" velocity="1.0" lower="-10.0" upper="10.0" />
        <axis xyz="1 0 0" />
    </joint>
	<joint name="jLeftC7Shoulder_roty" type="revolute">
        <origin xyz="0 0 0" rpy="0 0 0"/>
        <parent link="LeftShoulder_f1"/>
        <child link="LeftShoulder_f2"/>
        <dynamics damping="0.1" friction="0.0"/>
        <limit effort="30" velocity="1.0" lower="-10.0" upper="10.0" />
        <axis xyz="0 1 0" />
    </joint>
    <joint name="jLeftC7Shoulder_rotz" type="revolute">
        <origin xyz="0 0 0" rpy="0 0 0"/>
        <parent link="LeftShoulder_f2"/>
        <child link="LeftShoulder"/>
        <dynamics damping="0.1" friction="0.0"/>
        <limit effort="30" velocity="1.0" lower="-10.0" upper="10.0" />
        <axis xyz="0 0 1" />
    </joint>
	<joint name="jLeftShoulder_rotx" type="revolute">
        <origin xyz="0        0.14           0" rpy="0 0 0"/>
        <parent link="LeftShoulder"/>
        <child link="LeftUpperArm_f1"/>
        <dynamics damping="0.1" friction="0.0"/>
        <limit effort="30" velocity="1.0" lower="-10.0" upper="10.0" />
        <axis xyz="1 0 0" />
    </joint>
	<joint name="jLeftShoulder_roty" type="revolute">
        <origin xyz="0 0 0" rpy="0 0 0"/>
        <parent link="LeftUpperArm_f1"/>
        <child link="LeftUpperArm_f2"/>
        <dynamics damping="0.1" friction="0.0"/>
        <limit effort="30" velocity="1.0" lower="-10.0" upper="10.0" />
        <axis xyz="0 1 0" />
    </joint>
    <joint name="jLeftShoulder_rotz" type="revolute">
        <origin xyz="0 0 0" rpy="0 0 0"/>
        <parent link="LeftUpperArm_f2"/>
        <child link="LeftUpperArm"/>
        <dynamics damping="0.1" friction="0.0"/>
        <limit effort="30" velocity="1.0" lower="-10.0" upper="10.0" />
        <axis xyz="0 0 1" />
    </joint>
    <joint name="jLeftElbow_rotx" type="revolute">
        <origin xyz="0     0.29998           0" rpy="0 0 0"/>
        <parent link="LeftUpperArm"/>
        <child link="LeftForeArm_f1"/>
        <dynamics damping="0.1" friction="0.0"/>
        <limit effort="30" velocity="1.0" lower="-10.0" upper="10.0" />
        <axis xyz="1 0 0" />
    </joint>
	<joint name="jLeftElbow_roty" type="revolute">
        <origin xyz="0 0 0" rpy="0 0 0"/>
        <parent link="LeftForeArm_f1"/>
        <child link="LeftForeArm_f2"/>
        <dynamics damping="0.1" friction="0.0"/>
        <limit effort="30" velocity="1.0" lower="-10.0" upper="10.0" />
        <axis xyz="0 1 0" />
    </joint>
    <joint name="jLeftElbow_rotz" type="revolute">
        <origin xyz="0 0 0" rpy="0 0 0"/>
        <parent link="LeftForeArm_f2"/>
        <child link="LeftForeArm"/>
        <dynamics damping="0.1" friction="0.0"/>
        <limit effort="30" velocity="1.0" lower="-10.0" upper="10.0" />
        <axis xyz="0 0 1" />
    </joint>
	<joint name="jLeftWrist_rotx" type="revolute">
        <origin xyz="1e-06     0.24522           0" rpy="0 0 0"/>
        <parent link="LeftForeArm"/>
        <child link="LeftHand_f1"/>
        <dynamics damping="0.1" friction="0.0"/>
        <limit effort="30" velocity="1.0" lower="-10.0" upper="10.0" />
        <axis xyz="1 0 0" />
    </joint>
	<joint name="jLeftWrist_roty" type="revolute">
        <origin xyz="0 0 0" rpy="0 0 0"/>
        <parent link="LeftHand_f1"/>
        <child link="LeftHand_f2"/>
        <dynamics damping="0.1" friction="0.0"/>
        <limit effort="30" velocity="1.0" lower="-10.0" upper="10.0" />
        <axis xyz="0 1 0" />
    </joint>
    <joint name="jLeftWrist_rotz" type="revolute">
        <origin xyz="0 0 0" rpy="0 0 0"/>
        <parent link="LeftHand_f2"/>
        <child link="LeftHand"/>
        <dynamics damping="0.1" friction="0.0"/>
        <limit effort="30" velocity="1.0" lower="-10.0" upper="10.0" />
        <axis xyz="0 0 1" />
    </joint>
	<!--Chain from (16) to (19)-->
	<joint name="jRightHip_rotx" type="revolute">
        <origin xyz="0   -0.080011       3e-06" rpy="0 0 0"/>
        <parent link="Pelvis"/>
        <child link="RightUpperLeg_f1"/>
        <dynamics damping="0.1" friction="0.0"/>
        <limit effort="30" velocity="1.0" lower="-10.0" upper="10.0" />
        <axis xyz="1 0 0" />
    </joint>
	<joint name="jRightHip_roty" type="revolute">
        <origin xyz="0 0 0" rpy="0 0 0"/>
        <parent link="RightUpperLeg_f1"/>
        <child link="RightUpperLeg_f2"/>
        <dynamics damping="0.1" friction="0.0"/>
        <limit effort="30" velocity="1.0" lower="-10.0" upper="10.0" />
        <axis xyz="0 1 0" />
    </joint>
    <joint name="jRightHip_rotz" type="revolute">
        <origin xyz="0 0 0" rpy="0 0 0"/>
        <parent link="RightUpperLeg_f2"/>
        <child link="RightUpperLeg"/>
        <dynamics damping="0.1" friction="0.0"/>
        <limit effort="30" velocity="1.0" lower="-10.0" upper="10.0" />
        <axis xyz="0 0 1" />
    </joint>
	<joint name="jRightKnee_rotx" type="revolute">
        <origin xyz="4e-06           0    -0.41961" rpy="0 0 0"/>
        <parent link="RightUpperLeg"/>
        <child link="RightLowerLeg_f1"/>
        <dynamics damping="0.1" friction="0.0"/>
        <limit effort="30" velocity="1.0" lower="-10.0" upper="10.0" />
        <axis xyz="1 0 0" />
    </joint>
	<joint name="jRightKnee_roty" type="revolute">
        <origin xyz="0 0 0" rpy="0 0 0"/>
        <parent link="RightLowerLeg_f1"/>
        <child link="RightLowerLeg_f2"/>
        <dynamics damping="0.1" friction="0.0"/>
        <limit effort="30" velocity="1.0" lower="-10.0" upper="10.0" />
        <axis xyz="0 1 0" />
    </joint>
    <joint name="jRightKnee_rotz" type="revolute">
        <origin xyz="0 0 0" rpy="0 0 0"/>
        <parent link="RightLowerLeg_f2"/>
        <child link="RightLowerLeg"/>
        <dynamics damping="0.1" friction="0.0"/>
        <limit effort="30" velocity="1.0" lower="-10.0" upper="10.0" />
        <axis xyz="0 0 1" />
    </joint>
	<joint name="jRightAnkle_rotx" type="revolute">
        <origin xyz="4.5e-05           0     -0.4063" rpy="0 0 0"/>
        <parent link="RightLowerLeg"/>
        <child link="RightFoot_f1"/>
        <dynamics damping="0.1" friction="0.0"/>
        <limit effort="30" velocity="1.0" lower="-10.0" upper="10.0" />
        <axis xyz="1 0 0" />
    </joint>
	<joint name="jRightAnkle_roty" type="revolute">
        <origin xyz="0 0 0" rpy="0 0 0"/>
        <parent link="RightFoot_f1"/>
        <child link="RightFoot_f2"/>
        <dynamics damping="0.1" friction="0.0"/>
        <limit effort="30" velocity="1.0" lower="-10.0" upper="10.0" />
        <axis xyz="0 1 0" />
    </joint>
    <joint name="jRightAnkle_rotz" type="revolute">
        <origin xyz="0 0 0" rpy="0 0 0"/>
        <parent link="RightFoot_f2"/>
        <child link="RightFoot"/>
        <dynamics damping="0.1" friction="0.0"/>
        <limit effort="30" velocity="1.0" lower="-10.0" upper="10.0" />
        <axis xyz="0 0 1" />
    </joint>
	<joint name="jRightBallFoot_rotx" type="revolute">
        <origin xyz="0.14743           0   -0.090724" rpy="0 0 0"/>
        <parent link="RightFoot"/>
        <child link="RightToe_f1"/>
        <dynamics damping="0.1" friction="0.0"/>
        <limit effort="30" velocity="1.0" lower="-10.0" upper="10.0" />
        <axis xyz="1 0 0" />
    </joint>
	<joint name="jRightBallFoot_roty" type="revolute">
        <origin xyz="0 0 0" rpy="0 0 0"/>
        <parent link="RightToe_f1"/>
        <child link="RightToe_f2"/>
        <dynamics damping="0.1" friction="0.0"/>
        <limit effort="30" velocity="1.0" lower="-10.0" upper="10.0" />
        <axis xyz="0 1 0" />
    </joint>
    <joint name="jRightBallFoot_rotz" type="revolute">
        <origin xyz="0 0 0" rpy="0 0 0"/>
        <parent link="RightToe_f2"/>
        <child link="RightToe"/>
        <dynamics damping="0.1" friction="0.0"/>
        <limit effort="30" velocity="1.0" lower="-10.0" upper="10.0" />
        <axis xyz="0 0 1" />
    </joint>
	<!--Chain from (20) to (23)-->
	<joint name="jLeftHip_rotx" type="revolute">
        <origin xyz="0    0.080011       3e-06" rpy="0 0 0"/>
        <parent link="Pelvis"/>
        <child link="LeftUpperLeg_f1"/>
        <dynamics damping="0.1" friction="0.0"/>
        <limit effort="30" velocity="1.0" lower="-10.0" upper="10.0" />
        <axis xyz="1 0 0" />
    </joint>
	<joint name="jLeftHip_roty" type="revolute">
        <origin xyz="0 0 0" rpy="0 0 0"/>
        <parent link="LeftUpperLeg_f1"/>
        <child link="LeftUpperLeg_f2"/>
        <dynamics damping="0.1" friction="0.0"/>
        <limit effort="30" velocity="1.0" lower="-10.0" upper="10.0" />
        <axis xyz="0 1 0" />
    </joint>
    <joint name="jLeftHip_rotz" type="revolute">
        <origin xyz="0 0 0" rpy="0 0 0"/>
        <parent link="LeftUpperLeg_f2"/>
        <child link="LeftUpperLeg"/>
        <dynamics damping="0.1" friction="0.0"/>
        <limit effort="30" velocity="1.0" lower="-10.0" upper="10.0" />
        <axis xyz="0 0 1" />
    </joint>
	<joint name="jLeftKnee_rotx" type="revolute">
        <origin xyz="4e-06           0    -0.41961" rpy="0 0 0"/>
        <parent link="LeftUpperLeg"/>
        <child link="LeftLowerLeg_f1"/>
        <dynamics damping="0.1" friction="0.0"/>
        <limit effort="30" velocity="1.0" lower="-10.0" upper="10.0" />
        <axis xyz="1 0 0" />
    </joint>
	<joint name="jLeftKnee_roty" type="revolute">
        <origin xyz="0 0 0" rpy="0 0 0"/>
        <parent link="LeftLowerLeg_f1"/>
        <child link="LeftLowerLeg_f2"/>
        <dynamics damping="0.1" friction="0.0"/>
        <limit effort="30" velocity="1.0" lower="-10.0" upper="10.0" />
        <axis xyz="0 1 0" />
    </joint>
    <joint name="jLeftKnee_rotz" type="revolute">
        <origin xyz="0 0 0" rpy="0 0 0"/>
        <parent link="LeftLowerLeg_f2"/>
        <child link="LeftLowerLeg"/>
        <dynamics damping="0.1" friction="0.0"/>
        <limit effort="30" velocity="1.0" lower="-10.0" upper="10.0" />
        <axis xyz="0 0 1" />
    </joint>
	<joint name="jLeftAnkle_rotx" type="revolute">
        <origin xyz="4.5e-05           0     -0.4063" rpy="0 0 0"/>
        <parent link="LeftLowerLeg"/>
        <child link="LeftFoot_f1"/>
        <dynamics damping="0.1" friction="0.0"/>
        <limit effort="30" velocity="1.0" lower="-10.0" upper="10.0" />
        <axis xyz="1 0 0" />
    </joint>
	<joint name="jLeftAnkle_roty" type="revolute">
        <origin xyz="0 0 0" rpy="0 0 0"/>
        <parent link="LeftFoot_f1"/>
        <child link="LeftFoot_f2"/>
        <dynamics damping="0.1" friction="0.0"/>
        <limit effort="30" velocity="1.0" lower="-10.0" upper="10.0" />
        <axis xyz="0 1 0" />
    </joint>
    <joint name="jLeftAnkle_rotz" type="revolute">
        <origin xyz="0 0 0" rpy="0 0 0"/>
        <parent link="LeftFoot_f2"/>
        <child link="LeftFoot"/>
        <dynamics damping="0.1" friction="0.0"/>
        <limit effort="30" velocity="1.0" lower="-10.0" upper="10.0" />
        <axis xyz="0 0 1" />
    </joint>
	<joint name="jLeftBallFoot_rotx" type="revolute">
        <origin xyz="0.14743           0   -0.090724" rpy="0 0 0"/>
        <parent link="LeftFoot"/>
        <child link="LeftToe_f1"/>
        <dynamics damping="0.1" friction="0.0"/>
        <limit effort="30" velocity="1.0" lower="-10.0" upper="10.0" />
        <axis xyz="1 0 0" />
    </joint>
	<joint name="jLeftBallFoot_roty" type="revolute">
        <origin xyz="0 0 0" rpy="0 0 0"/>
        <parent link="LeftToe_f1"/>
        <child link="LeftToe_f2"/>
        <dynamics damping="0.1" friction="0.0"/>
        <limit effort="30" velocity="1.0" lower="-10.0" upper="10.0" />
        <axis xyz="0 1 0" />
    </joint>
    <joint name="jLeftBallFoot_rotz" type="revolute">
        <origin xyz="0 0 0" rpy="0 0 0"/>
        <parent link="LeftToe_f2"/>
        <child link="LeftToe"/>
        <dynamics damping="0.1" friction="0.0"/>
        <limit effort="30" velocity="1.0" lower="-10.0" upper="10.0" />
        <axis xyz="0 0 1" />
    </joint>

	<!-- Sensor  1-->
<sensor name="Pelvis_gyro" type="gyroscope">
<parent link="Pelvis"/>
<origin xyz="-0.063109  -0.0031828    0.090134" rpy="0.16371      1.2579     -2.6149"/>
</sensor>
<sensor name="Pelvis_accelerometer" type="accelerometer">
<parent link="Pelvis"/>
<origin xyz="-0.063109  -0.0031828    0.090134" rpy="0.16371      1.2579     -2.6149"/>
</sensor>
<!-- Sensor  2-->
<sensor name="T8_gyro" type="gyroscope">
<parent link="T8"/>
<origin xyz="0.14003  9.9247e-05    0.076885" rpy="0.087157      1.0186     0.28597"/>
</sensor>
<sensor name="T8_accelerometer" type="accelerometer">
<parent link="T8"/>
<origin xyz="0.14003  9.9247e-05    0.076885" rpy="0.087157      1.0186     0.28597"/>
</sensor>
<!-- Sensor  3-->
<sensor name="Head_gyro" type="gyroscope">
<parent link="Head"/>
<origin xyz="-0.06937  8.9834e-05    0.076262" rpy="2.4346    0.077258     -1.8635"/>
</sensor>
<sensor name="Head_accelerometer" type="accelerometer">
<parent link="Head"/>
<origin xyz="-0.06937  8.9834e-05    0.076262" rpy="2.4346    0.077258     -1.8635"/>
</sensor>
<!-- Sensor  4-->
<sensor name="RightShoulder_gyro" type="gyroscope">
<parent link="RightShoulder"/>
<origin xyz="-0.020018   -0.050005       -0.06" rpy="1.2893    -0.22999     -1.2211"/>
</sensor>
<sensor name="RightShoulder_accelerometer" type="accelerometer">
<parent link="RightShoulder"/>
<origin xyz="-0.020018   -0.050005       -0.06" rpy="1.2893    -0.22999     -1.2211"/>
</sensor>
<!-- Sensor  5-->
<sensor name="RightUpperArm_gyro" type="gyroscope">
<parent link="RightUpperArm"/>
<origin xyz="-0.019914   -0.099985    0.019978" rpy="-0.10648   -0.020853     -1.4872"/>
</sensor>
<sensor name="RightUpperArm_accelerometer" type="accelerometer">
<parent link="RightUpperArm"/>
<origin xyz="-0.019914   -0.099985    0.019978" rpy="-0.10648   -0.020853     -1.4872"/>
</sensor>
<!-- Sensor  6-->
<sensor name="RightForeArm_gyro" type="gyroscope">
<parent link="RightForeArm"/>
<origin xyz="0.0018307    -0.20033    0.020059" rpy="-0.78944   -0.056387     -1.2814"/>
</sensor>
<sensor name="RightForeArm_accelerometer" type="accelerometer">
<parent link="RightForeArm"/>
<origin xyz="0.0018307    -0.20033    0.020059" rpy="-0.78944   -0.056387     -1.2814"/>
</sensor>
<!-- Sensor  7-->
<sensor name="RightHand_gyro" type="gyroscope">
<parent link="RightHand"/>
<origin xyz="-0.00023006   -0.055076    0.019963" rpy="-0.89719    -0.22573     -1.3387"/>
</sensor>
<sensor name="RightHand_accelerometer" type="accelerometer">
<parent link="RightHand"/>
<origin xyz="-0.00023006   -0.055076    0.019963" rpy="-0.89719    -0.22573     -1.3387"/>
</sensor>
<!-- Sensor  8-->
<sensor name="LeftShoulder_gyro" type="gyroscope">
<parent link="LeftShoulder"/>
<origin xyz="-0.020037    0.050041   -0.060031" rpy="-1.1851    -0.31089      1.2065"/>
</sensor>
<sensor name="LeftShoulder_accelerometer" type="accelerometer">
<parent link="LeftShoulder"/>
<origin xyz="-0.020037    0.050041   -0.060031" rpy="-1.1851    -0.31089      1.2065"/>
</sensor>
<!-- Sensor  9-->
<sensor name="LeftUpperArm_gyro" type="gyroscope">
<parent link="LeftUpperArm"/>
<origin xyz="-0.019948    0.099993    0.019977" rpy="0.20083     -0.0718       1.433"/>
</sensor>
<sensor name="LeftUpperArm_accelerometer" type="accelerometer">
<parent link="LeftUpperArm"/>
<origin xyz="-0.019948    0.099993    0.019977" rpy="0.20083     -0.0718       1.433"/>
</sensor>
<!-- Sensor  10-->
<sensor name="LeftForeArm_gyro" type="gyroscope">
<parent link="LeftForeArm"/>
<origin xyz="0.001893     0.20039    0.019984" rpy="0.32521   -0.069135      1.1342"/>
</sensor>
<sensor name="LeftForeArm_accelerometer" type="accelerometer">
<parent link="LeftForeArm"/>
<origin xyz="0.001893     0.20039    0.019984" rpy="0.32521   -0.069135      1.1342"/>
</sensor>
<!-- Sensor  11-->
<sensor name="LeftHand_gyro" type="gyroscope">
<parent link="LeftHand"/>
<origin xyz="-4.2543e-05    0.055052    0.020058" rpy="0.37023    -0.20233        1.39"/>
</sensor>
<sensor name="LeftHand_accelerometer" type="accelerometer">
<parent link="LeftHand"/>
<origin xyz="-4.2543e-05    0.055052    0.020058" rpy="0.37023    -0.20233        1.39"/>
</sensor>
<!-- Sensor  12-->
<sensor name="RightUpperLeg_gyro" type="gyroscope">
<parent link="RightUpperLeg"/>
<origin xyz="0.011691   -0.043215    -0.25244" rpy="-3.0517      1.3685      1.6799"/>
</sensor>
<sensor name="RightUpperLeg_accelerometer" type="accelerometer">
<parent link="RightUpperLeg"/>
<origin xyz="0.011691   -0.043215    -0.25244" rpy="-3.0517      1.3685      1.6799"/>
</sensor>
<!-- Sensor  13-->
<sensor name="RightLowerLeg_gyro" type="gyroscope">
<parent link="RightLowerLeg"/>
<origin xyz="0.030853    0.007226    -0.13289" rpy="-1.6618      1.4352     -1.2269"/>
</sensor>
<sensor name="RightLowerLeg_accelerometer" type="accelerometer">
<parent link="RightLowerLeg"/>
<origin xyz="0.030853    0.007226    -0.13289" rpy="-1.6618      1.4352     -1.2269"/>
</sensor>
<!-- Sensor  14-->
<sensor name="RightFoot_gyro" type="gyroscope">
<parent link="RightFoot"/>
<origin xyz="0.085389   0.0015751   -0.011996" rpy="0.16074     0.92066   -0.098168"/>
</sensor>
<sensor name="RightFoot_accelerometer" type="accelerometer">
<parent link="RightFoot"/>
<origin xyz="0.085389   0.0015751   -0.011996" rpy="0.16074     0.92066   -0.098168"/>
</sensor>
<!-- Sensor  15-->
<sensor name="LeftUpperLeg_gyro" type="gyroscope">
<parent link="LeftUpperLeg"/>
<origin xyz="0.011505    0.043883    -0.25227" rpy="-2.8552      1.3828     -1.1711"/>
</sensor>
<sensor name="LeftUpperLeg_accelerometer" type="accelerometer">
<parent link="LeftUpperLeg"/>
<origin xyz="0.011505    0.043883    -0.25227" rpy="-2.8552      1.3828     -1.1711"/>
</sensor>
<!-- Sensor  16-->
<sensor name="LeftLowerLeg_gyro" type="gyroscope">
<parent link="LeftLowerLeg"/>
<origin xyz="0.030833   -0.007312    -0.13285" rpy="1.1105      1.5437     0.90219"/>
</sensor>
<sensor name="LeftLowerLeg_accelerometer" type="accelerometer">
<parent link="LeftLowerLeg"/>
<origin xyz="0.030833   -0.007312    -0.13285" rpy="1.1105      1.5437     0.90219"/>
</sensor>
<!-- Sensor  17-->
<sensor name="LeftFoot_gyro" type="gyroscope">
<parent link="LeftFoot"/>
<origin xyz="0.085192  -0.0024748    -0.01206" rpy="-0.30911     0.89451     0.07278"/>
</sensor>
<sensor name="LeftFoot_accelerometer" type="accelerometer">
<parent link="LeftFoot"/>
<origin xyz="0.085192  -0.0024748    -0.01206" rpy="-0.30911     0.89451     0.07278"/>
</sensor>


</robot>
